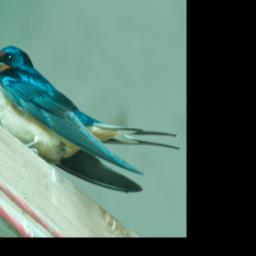Swallow: (0, 44, 181, 195)
